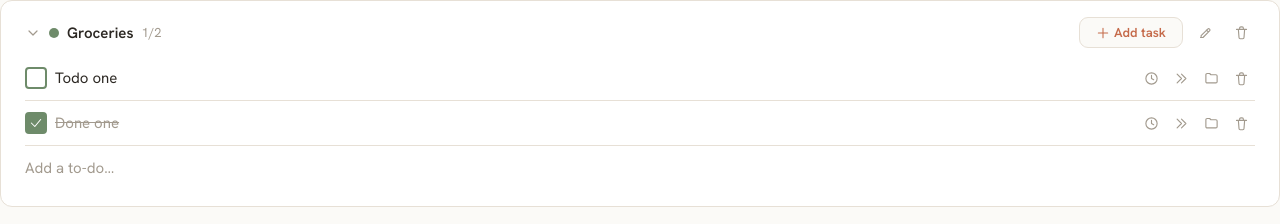
Scenario: ListSection › collapses and hides tasks when the header is toggled
expect the text "Todo one" is shown: met, box [55,68,117,88]
Click the button "Groceries 1/2": click(100, 32) [25,22,1071,42]
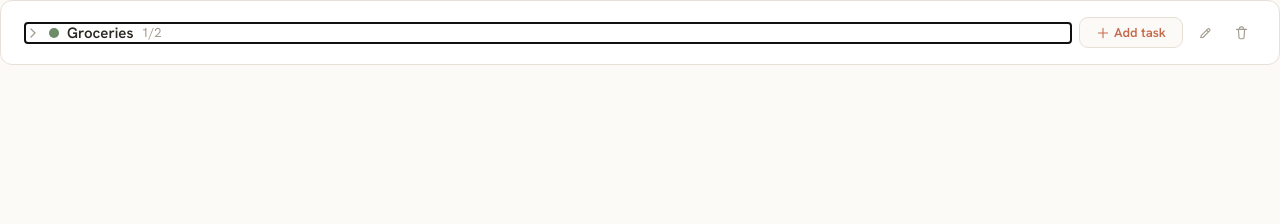
expect the button "Todo one" is gone: met
